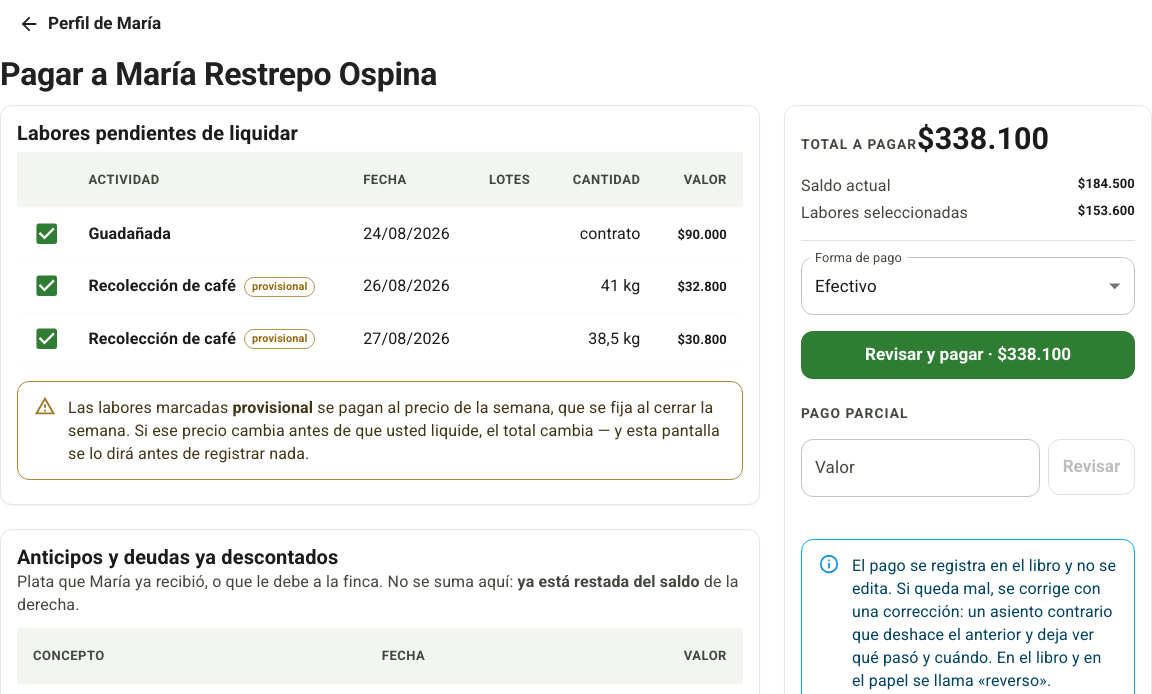
Test: paying more than is owed › offers to record the excess as an advance
The width and height of the screenshot is (1152, 694).
Check: the heading "Labores pendientes de liquidar" is shown, box [17,120,298,144]
In the field labelled "Valor": (920, 468) [801,439,1040,497], type "99999999"
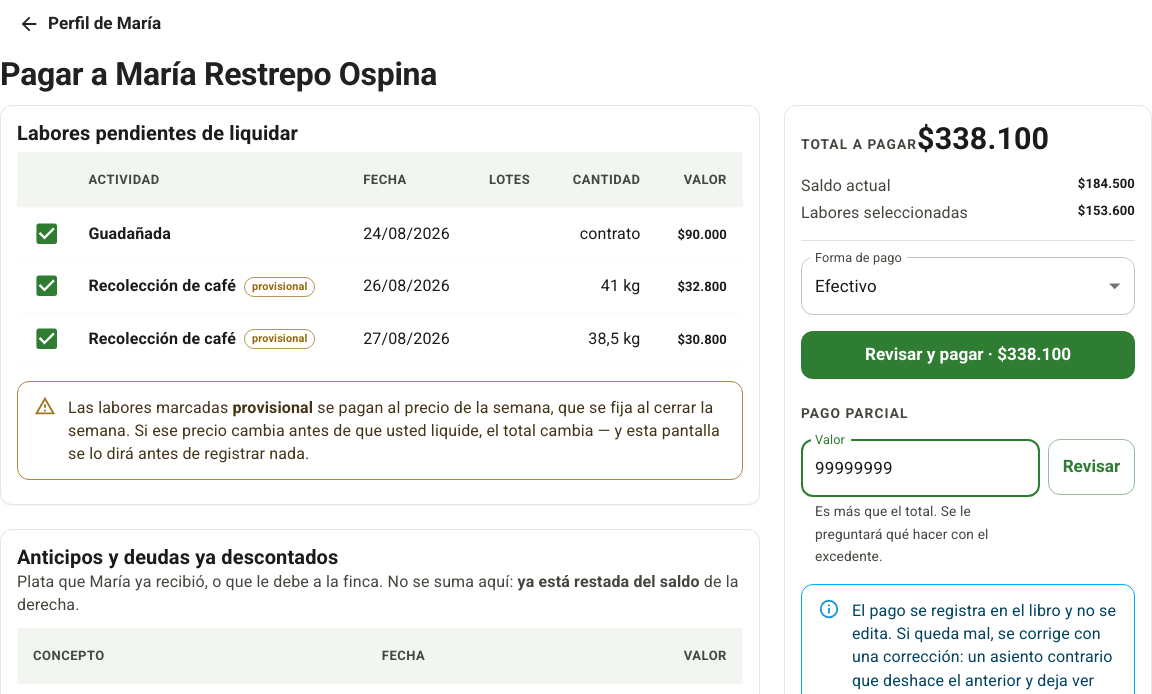
Check: the text "Es más que el total" is shown, box [815,503,989,564]
Click the button "Revisar": (1091, 467) [1048,439,1135,495]
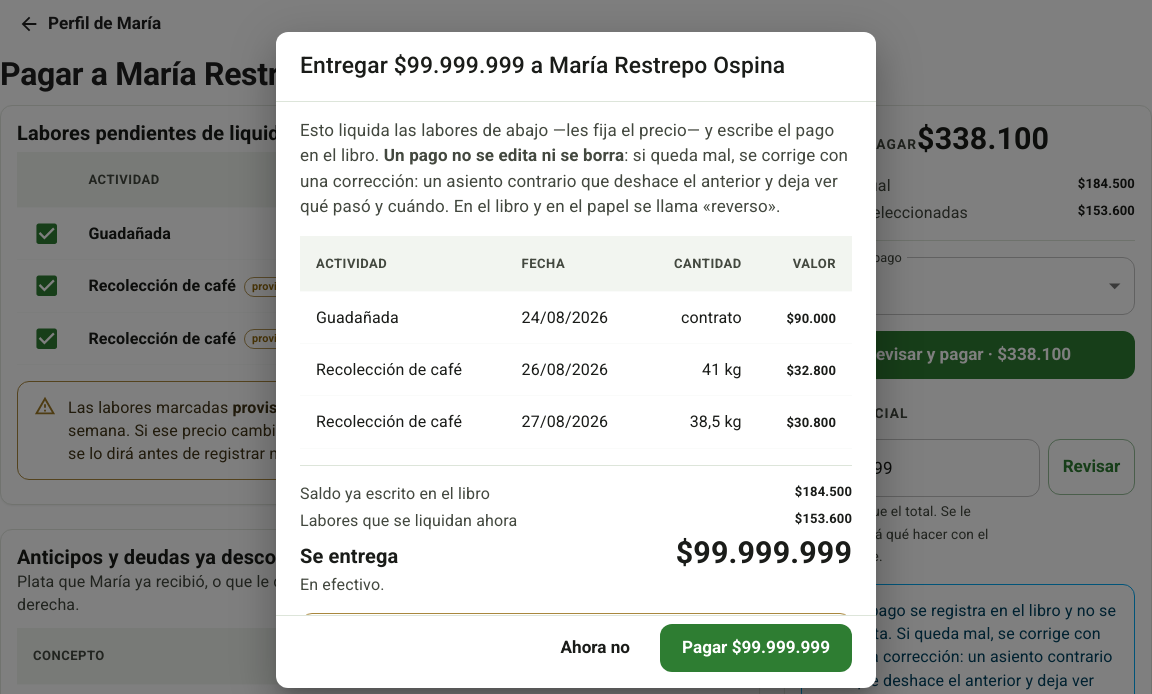
Click the button "Pagar $99.999.999": (756, 648) [660,624,852,672]
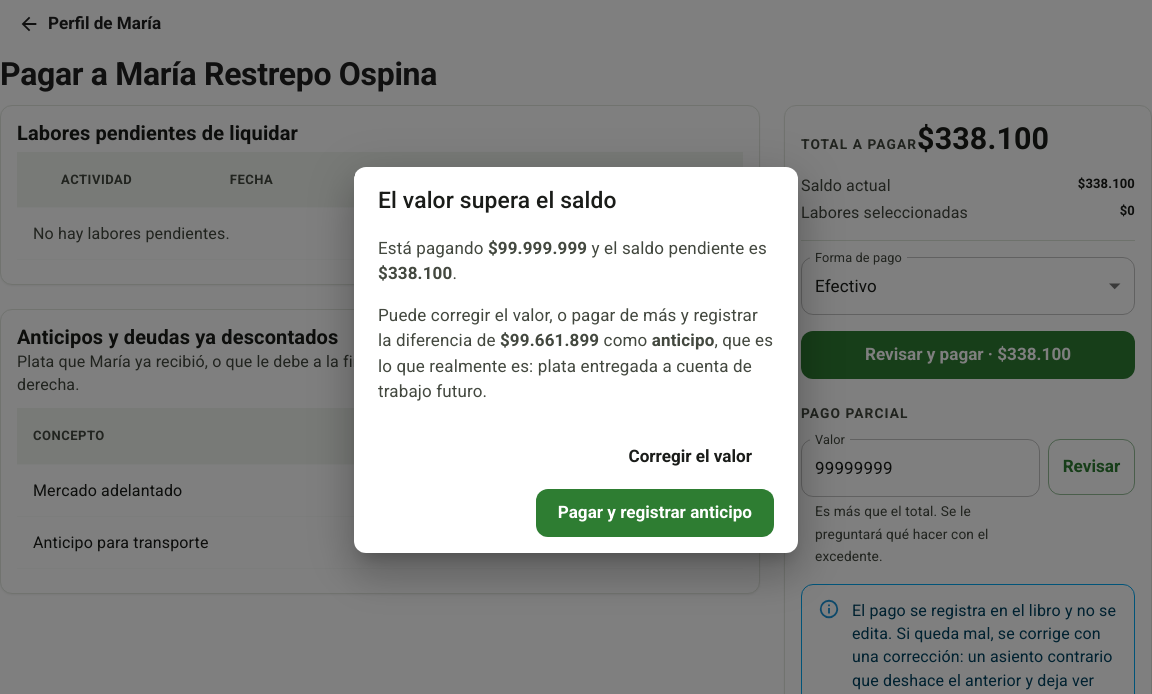
Click the button "Pagar y registrar anticipo": (655, 513) [536,489,774,537]
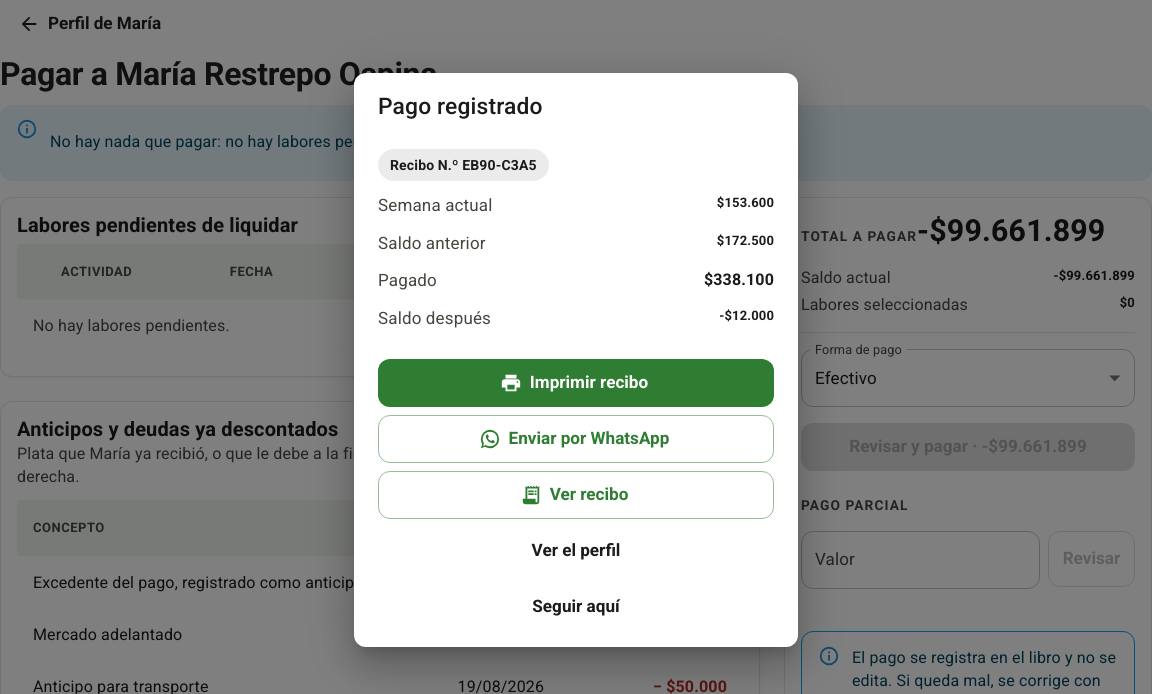
Check: the heading "Pago registrado" is shown, box [378,93,543,120]
